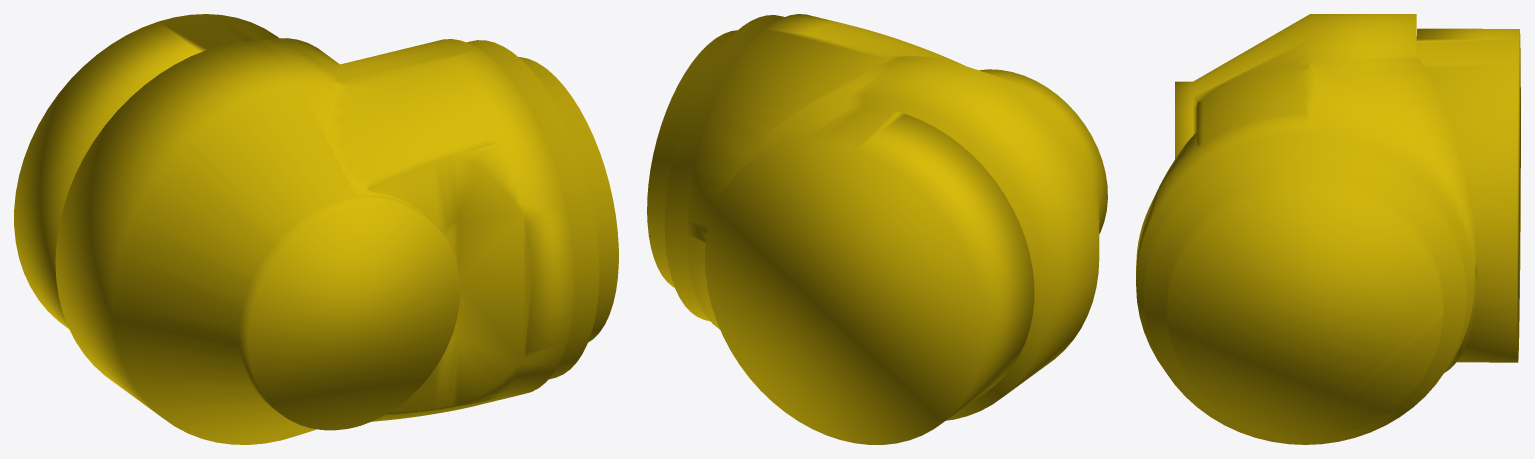
The picture shows the model from 3 angles, left to right: view 1: azimuth 30°, elevation 25°; view 2: azimuth 150°, elevation 25°; view 3: azimuth 270°, elevation 25°; orthographic projection. The views are drawn at different scales.
Parts seen in each view (by area): view 1: kr60_6; view 2: kr60_6; view 3: kr60_6.
Boxes of the visible parts, <box> form: kr60_6: <box>14,14,618,444</box>; kr60_6: <box>647,14,1107,444</box>; kr60_6: <box>1136,14,1520,444</box>.
Size of what is drawn, in the model's own units: 61.7 by 48.57 by 51.52.
